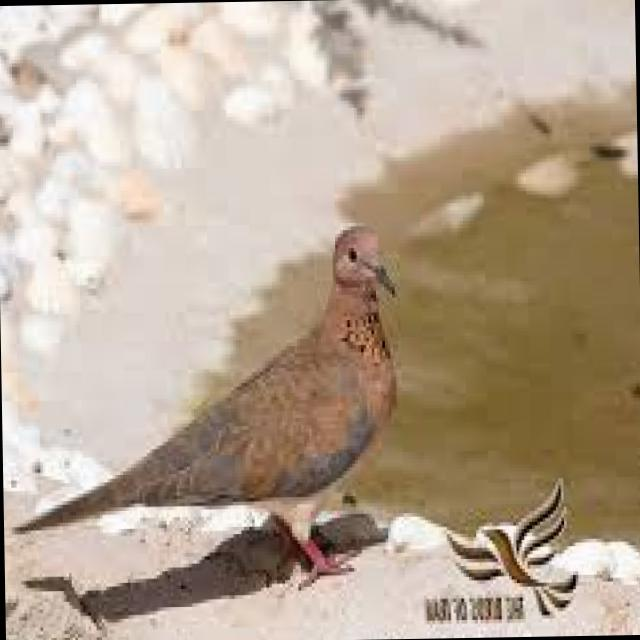bird: (6, 221, 407, 597)
